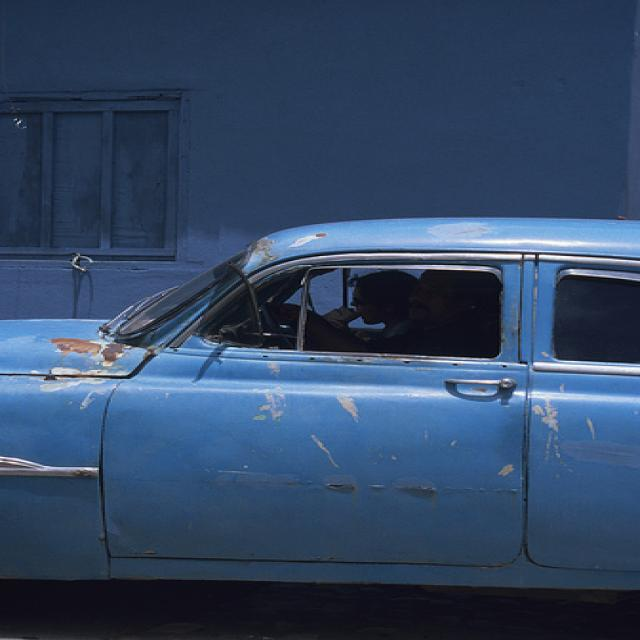light_vehicle: (0, 215, 638, 589)
